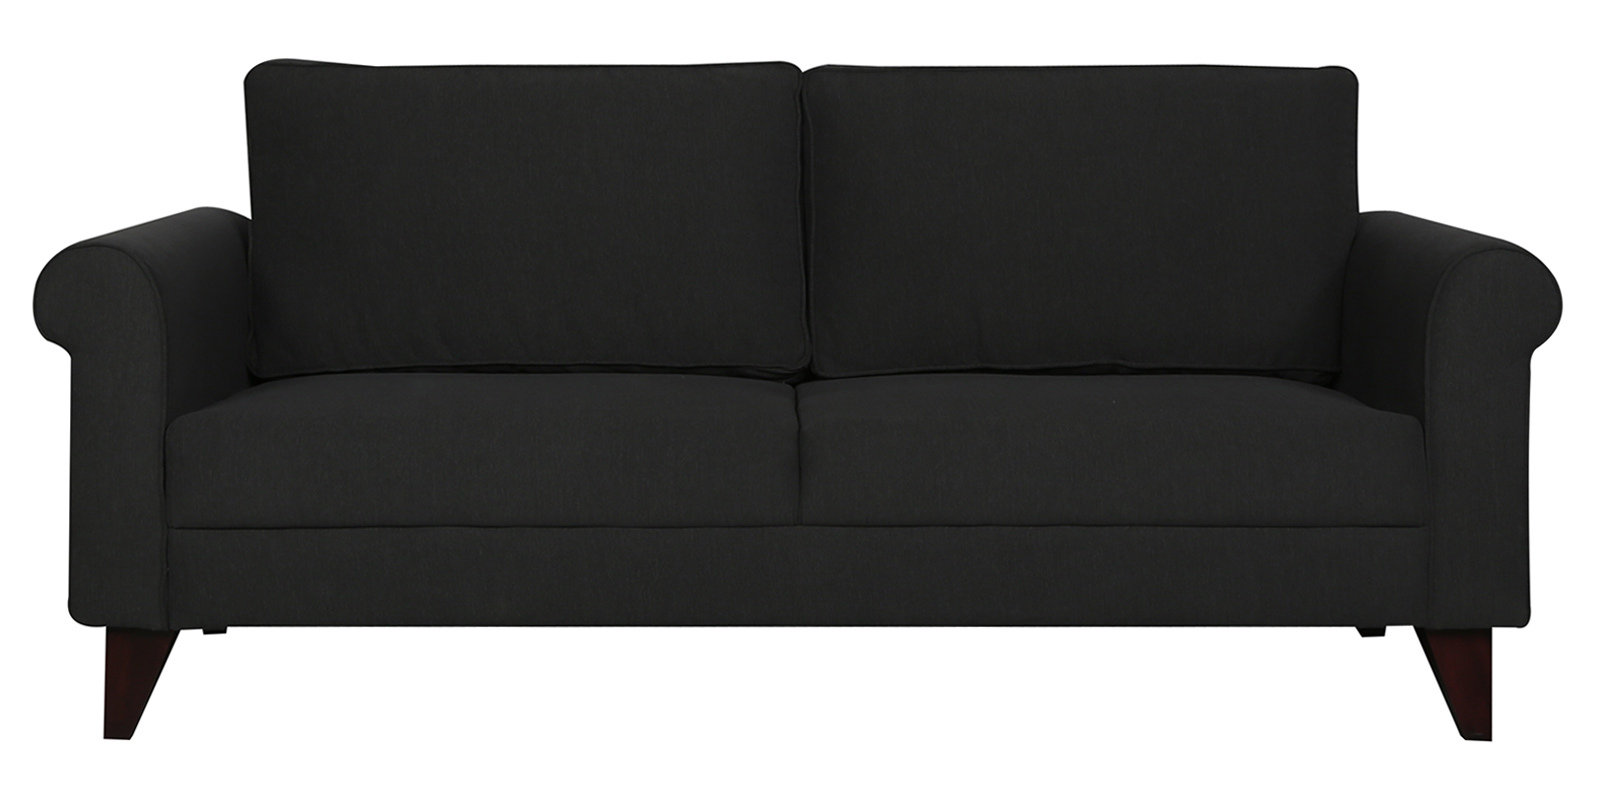Fuego Three Seater Sofa in Charcoal Grey Colour by CasaCraft: (26, 39, 1587, 782)
